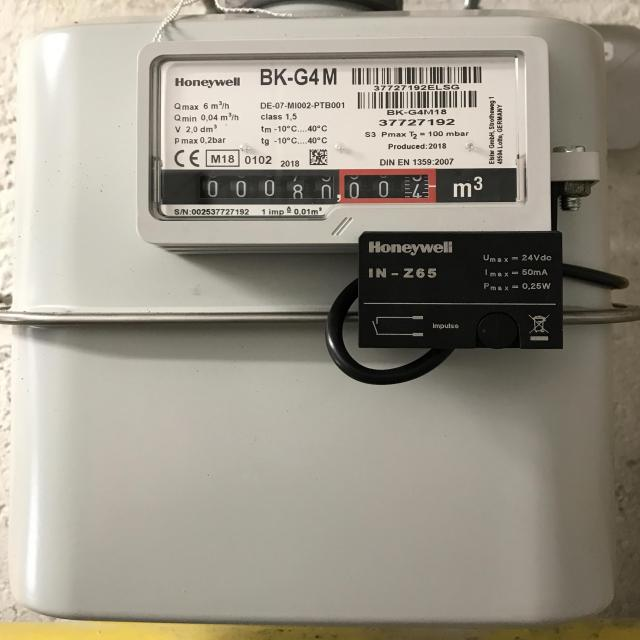gaz_meter: (152, 52, 533, 210)
indication: (157, 167, 437, 205)
